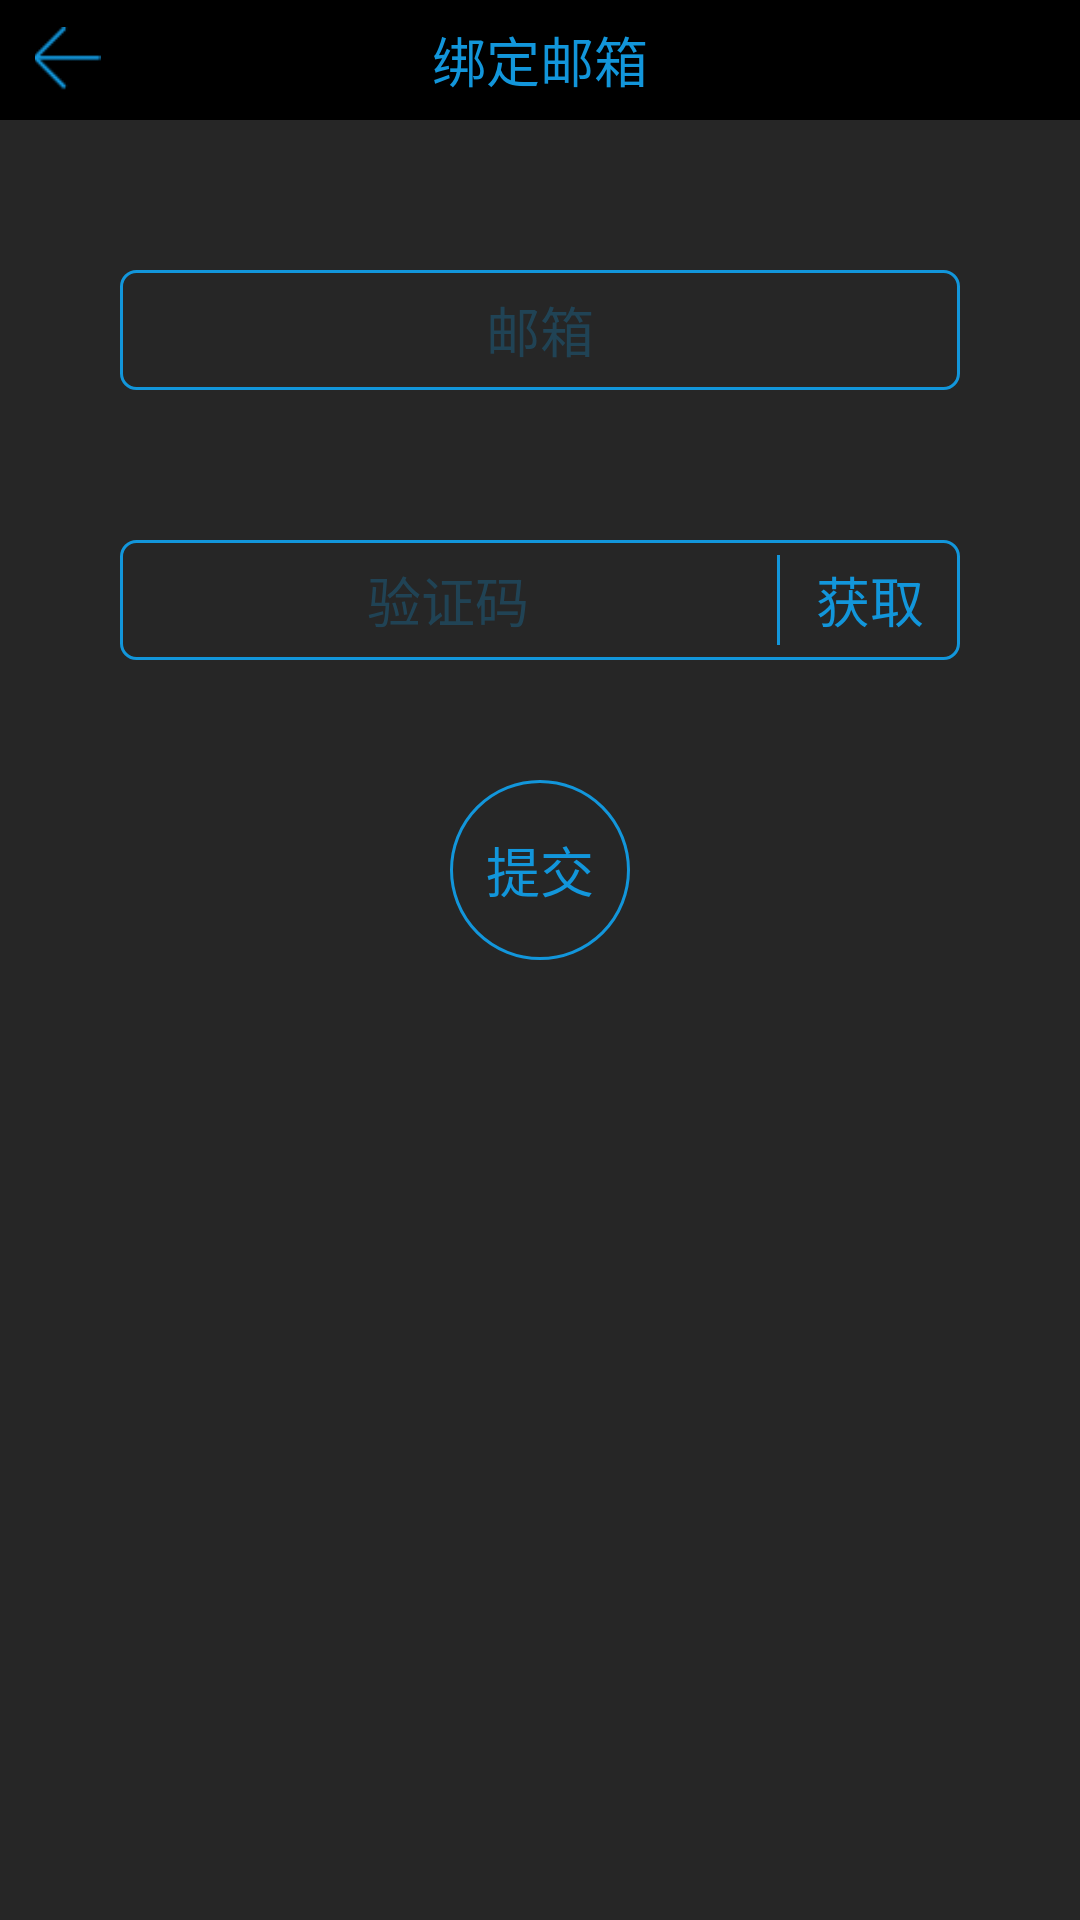

Screen size 1080px×1920px. Icon name, then its center in pixels as (x,y):
pre: (68,58)
